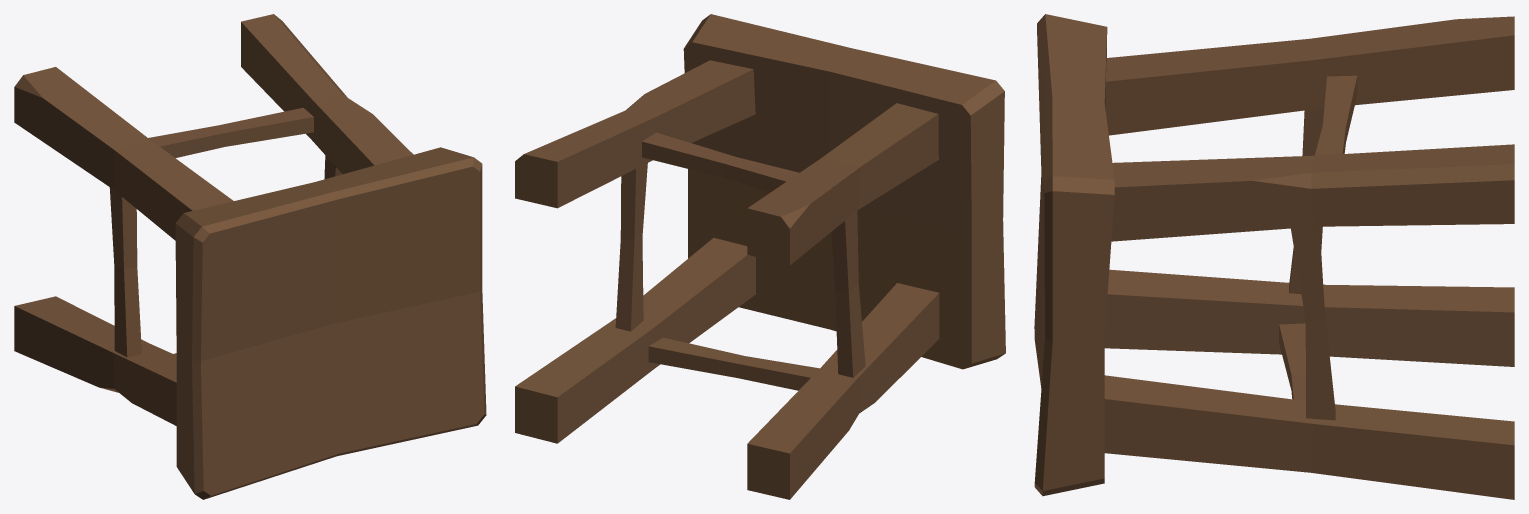
Rendered from Chair_01.fbx.
The picture shows the model from 3 angles, left to right: view 1: azimuth 30°, elevation 25°; view 2: azimuth 150°, elevation 25°; view 3: azimuth 270°, elevation 25°; orthographic projection. The views are drawn at different scales.
Parts seen in each view (by area): view 1: Chair_1.0_LOW.004; view 2: Chair_1.0_LOW.004; view 3: Chair_1.0_LOW.004.
Part boxes in pixels (x1,y1,x2,y2): Chair_1.0_LOW.004: [14, 14, 486, 499]; Chair_1.0_LOW.004: [515, 14, 1005, 499]; Chair_1.0_LOW.004: [1034, 14, 1514, 499].
Bounding box in the file's own units: 33.6 × 30.63 × 39.63.
